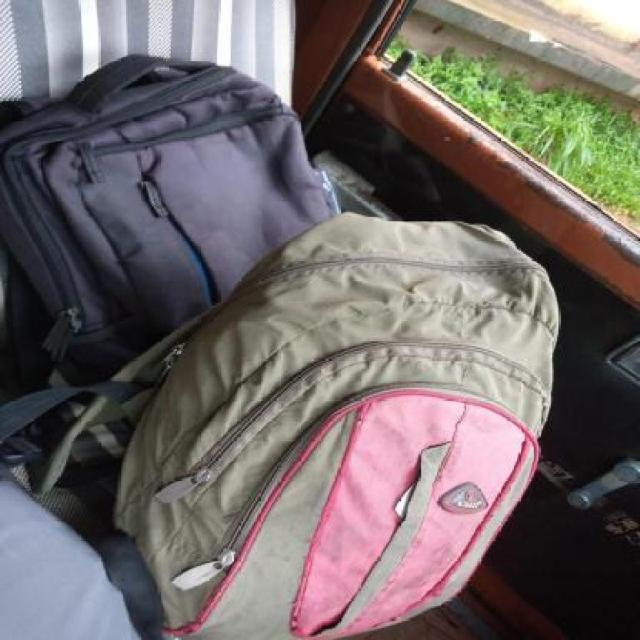backpack: (109, 206, 562, 640), (0, 46, 343, 386)
